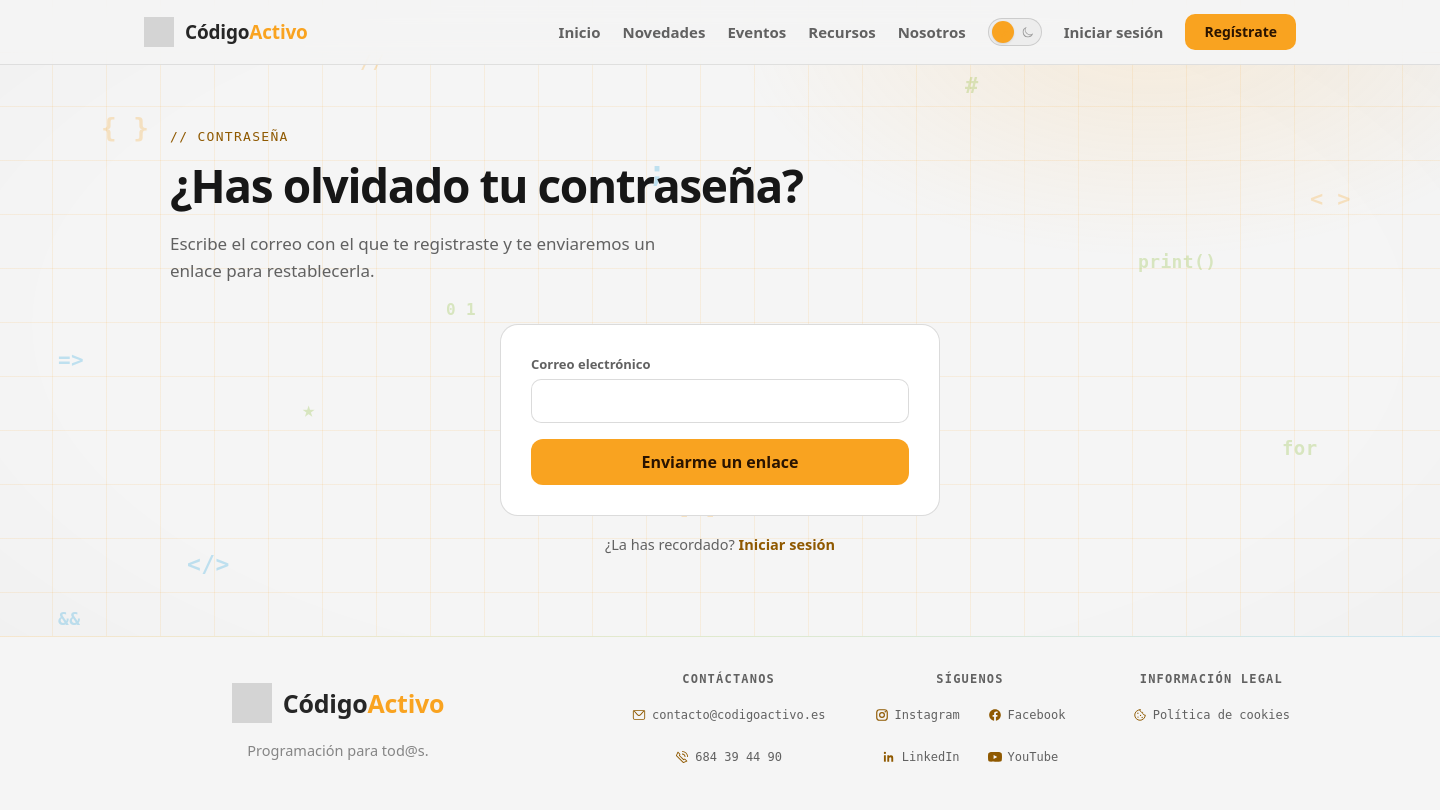
forgot password page › requests a reset link for the trimmed email and confirms it was sent
The width and height of the screenshot is (1440, 810).
Type "  ada@example.test " into the field with id "forgot-email" at (720, 401), box [545, 380, 895, 422]
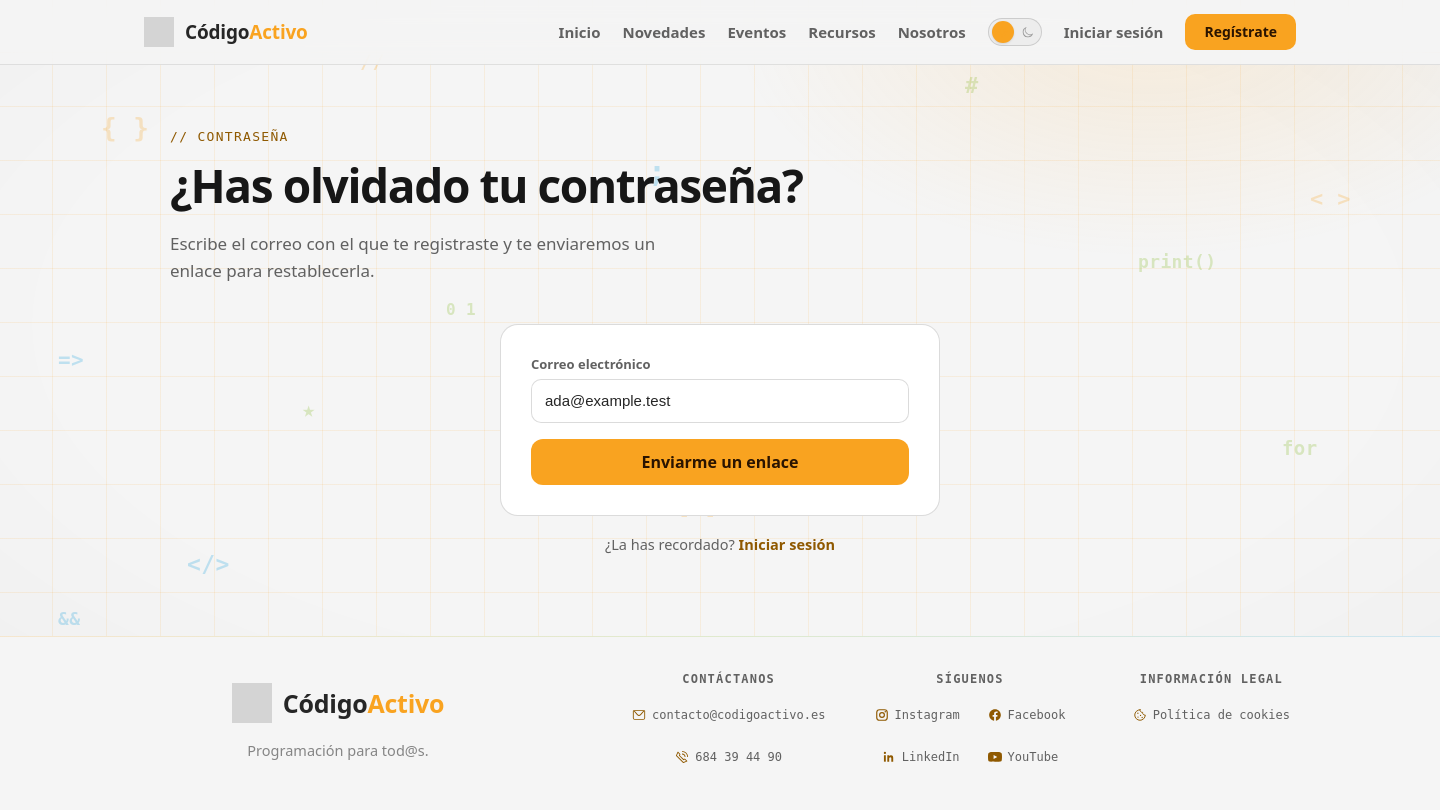
Submit the form, box [500, 324, 940, 516]
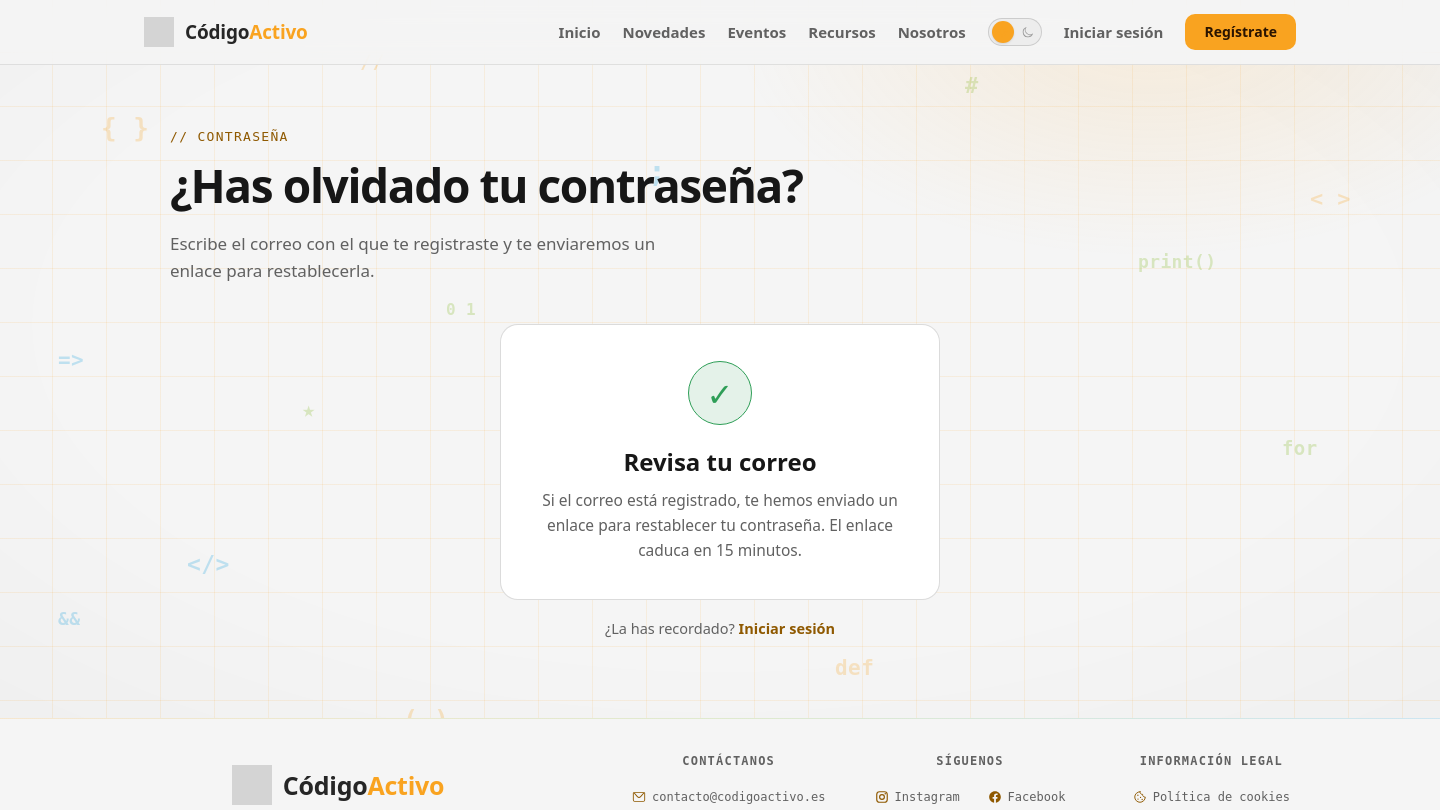
Now the text "Revisa tu correo" is shown, box [623, 445, 817, 478]
